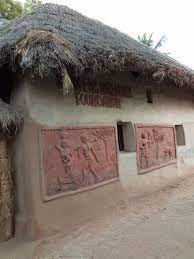Mud House: (5, 8, 186, 232)
